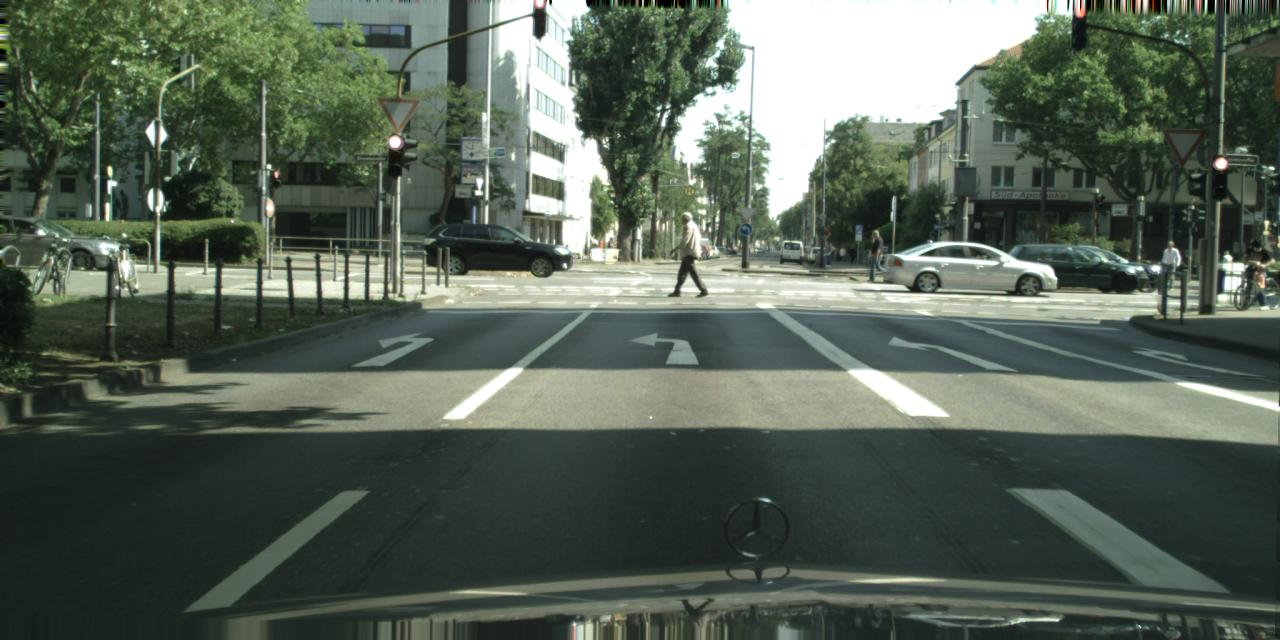ped: (670, 211, 704, 296), (1240, 238, 1268, 308), (1158, 240, 1179, 290), (867, 230, 887, 278), (1220, 250, 1232, 281), (587, 234, 597, 257), (606, 236, 614, 258), (597, 236, 605, 256), (847, 245, 855, 263)
